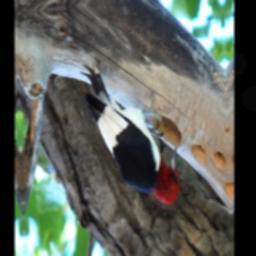Woodpecker: (80, 47, 182, 213)
